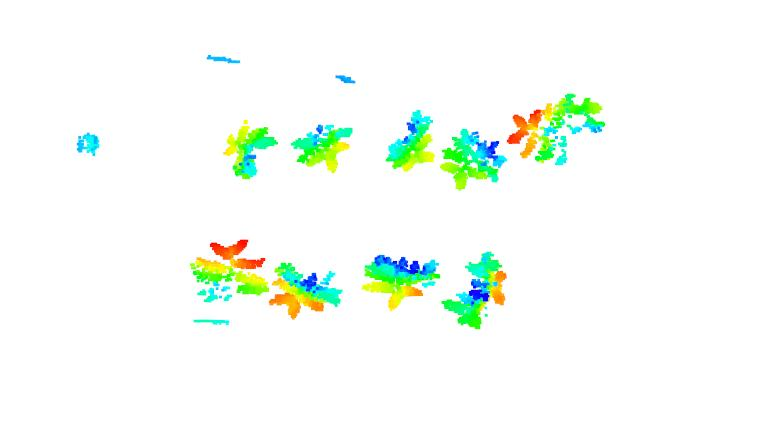chickpea: (506, 90, 608, 163), (442, 247, 510, 334), (190, 237, 269, 306), (267, 261, 344, 324), (437, 125, 504, 194), (362, 256, 442, 310), (382, 108, 440, 173), (221, 117, 275, 182), (291, 120, 355, 173)
